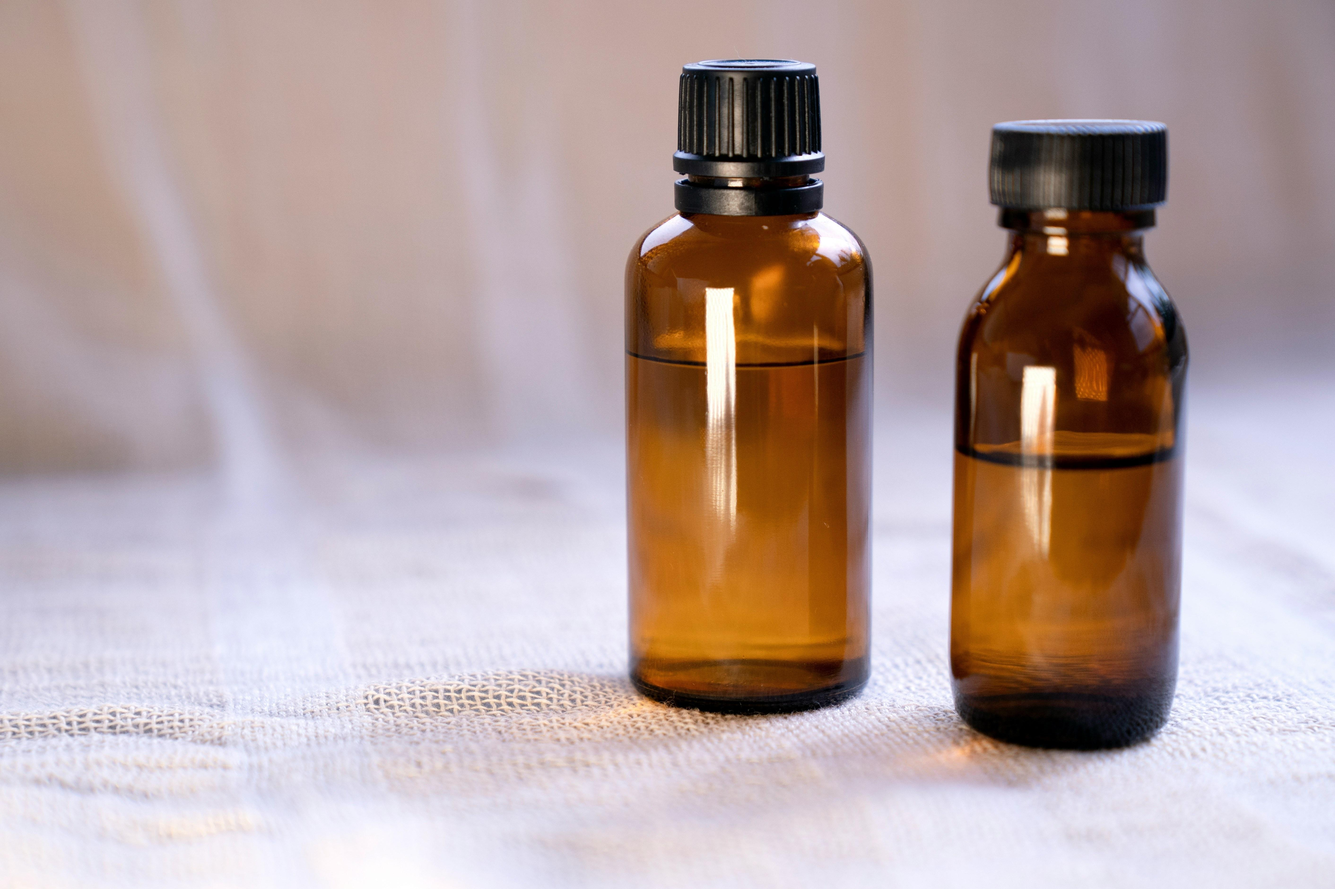Bottle-Detection: (532, 28, 924, 775), (915, 94, 1229, 789)
